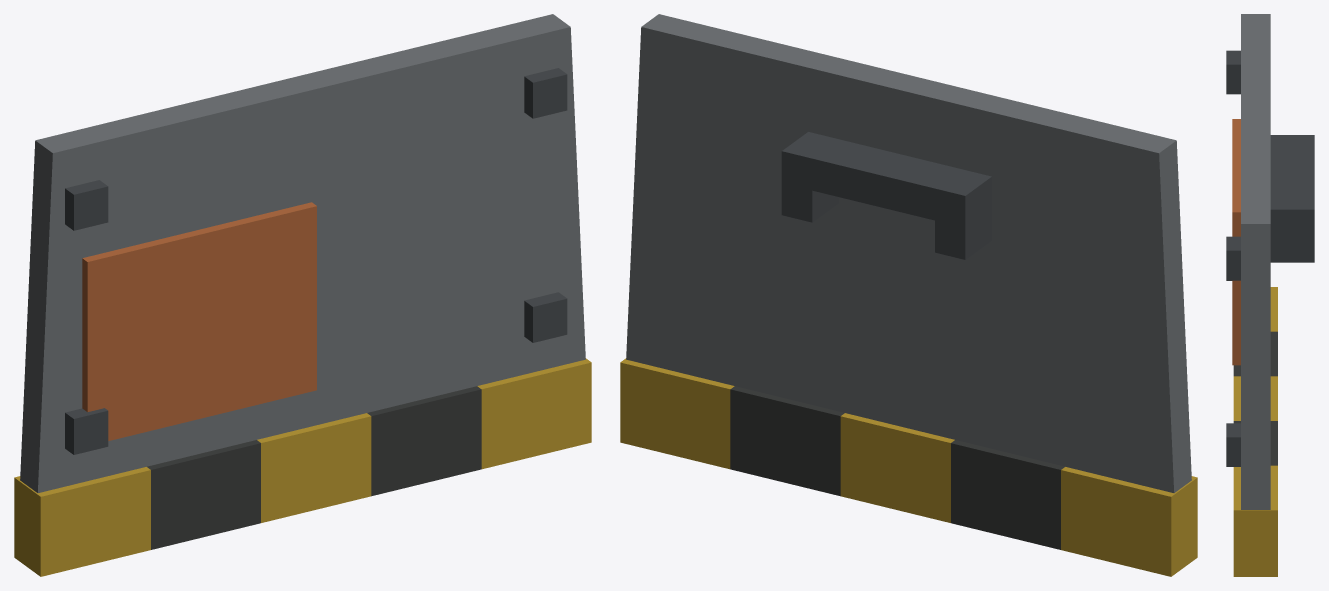
File: item_armor_plate.glb
The picture shows the model from 3 angles, left to right: view 1: azimuth 30°, elevation 25°; view 2: azimuth 150°, elevation 25°; view 3: azimuth 270°, elevation 25°; orthographic projection. The views are drawn at different scales.
Visible parts, largest first — view 1: armor_plate; view 2: armor_plate; view 3: armor_plate.
Boxes of the visible parts, x1=… form: armor_plate: x1=14, y1=14, x2=591, y2=576; armor_plate: x1=620, y1=14, x2=1197, y2=576; armor_plate: x1=1226, y1=14, x2=1314, y2=576.
Bounding box in the file's own units: 0.72 × 0.52 × 0.12.
